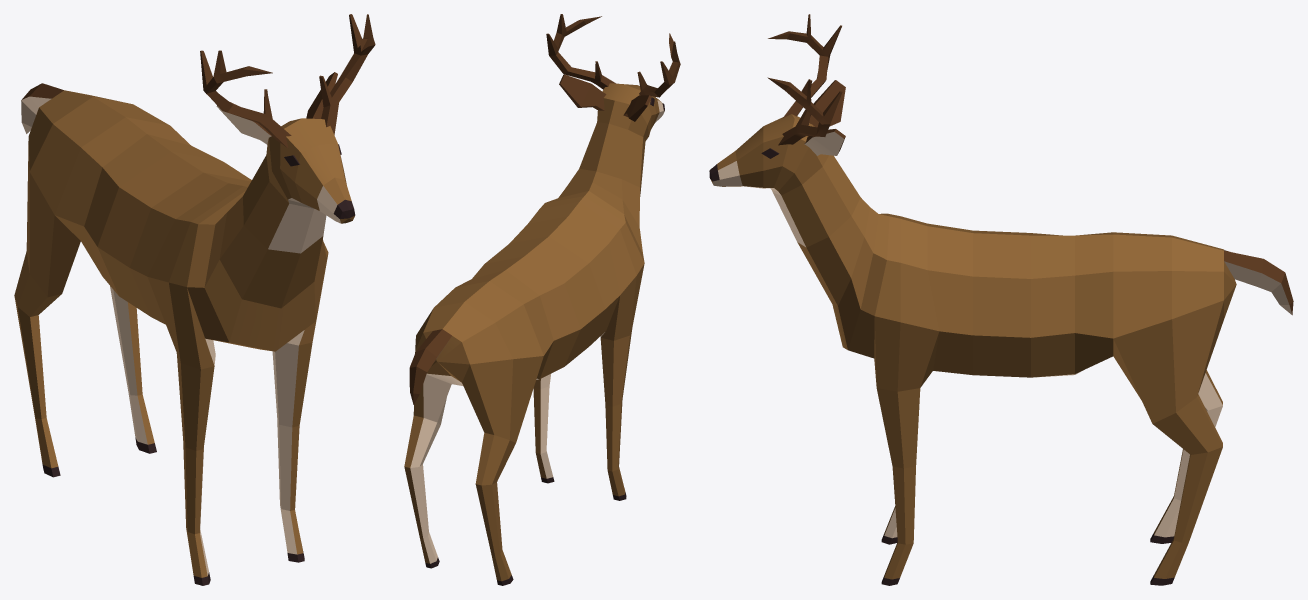
File: deerb.obj
The picture shows the model from 3 angles, left to right: view 1: azimuth 30°, elevation 25°; view 2: azimuth 150°, elevation 25°; view 3: azimuth 270°, elevation 25°; orthographic projection. The views are drawn at different scales.
Parts seen in each view (by area): view 1: deer; view 2: deer; view 3: deer.
Boxes of the visible parts, x1,y1,x2,y2 form: deer: (14, 14, 375, 585); deer: (404, 14, 680, 585); deer: (709, 14, 1293, 585).
Bounding box in the file's own units: 0.4026 × 1.35 × 1.39.
1 material, 1 textured.
